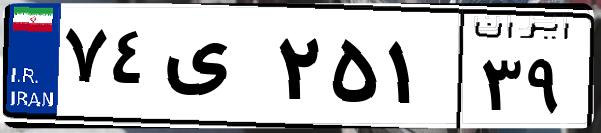1: (385, 28, 445, 110)
2: (270, 28, 330, 110)
3: (475, 38, 525, 113)
4: (110, 28, 158, 98)
5: (330, 28, 385, 110)
7: (57, 26, 110, 100)
9: (525, 38, 570, 115)
ی: (158, 20, 270, 120)
